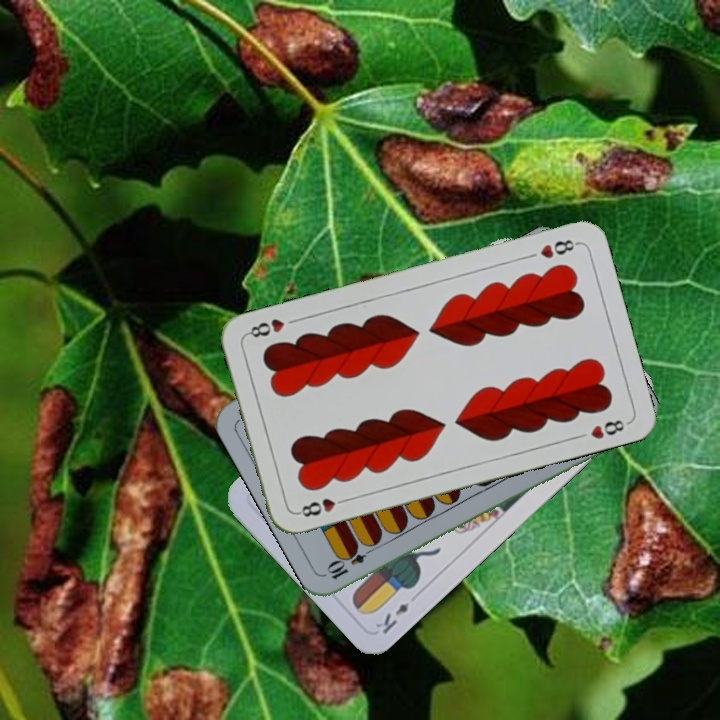E10: (323, 541, 378, 582)
EK: (371, 598, 412, 637)
H8: (293, 494, 351, 520), (536, 235, 581, 261)
